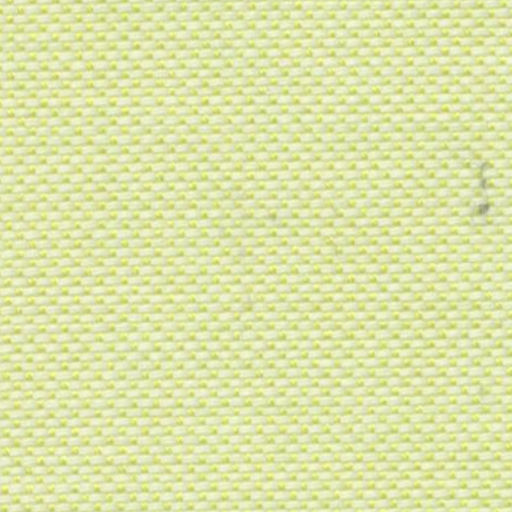WuZi: (460, 150, 504, 230)
